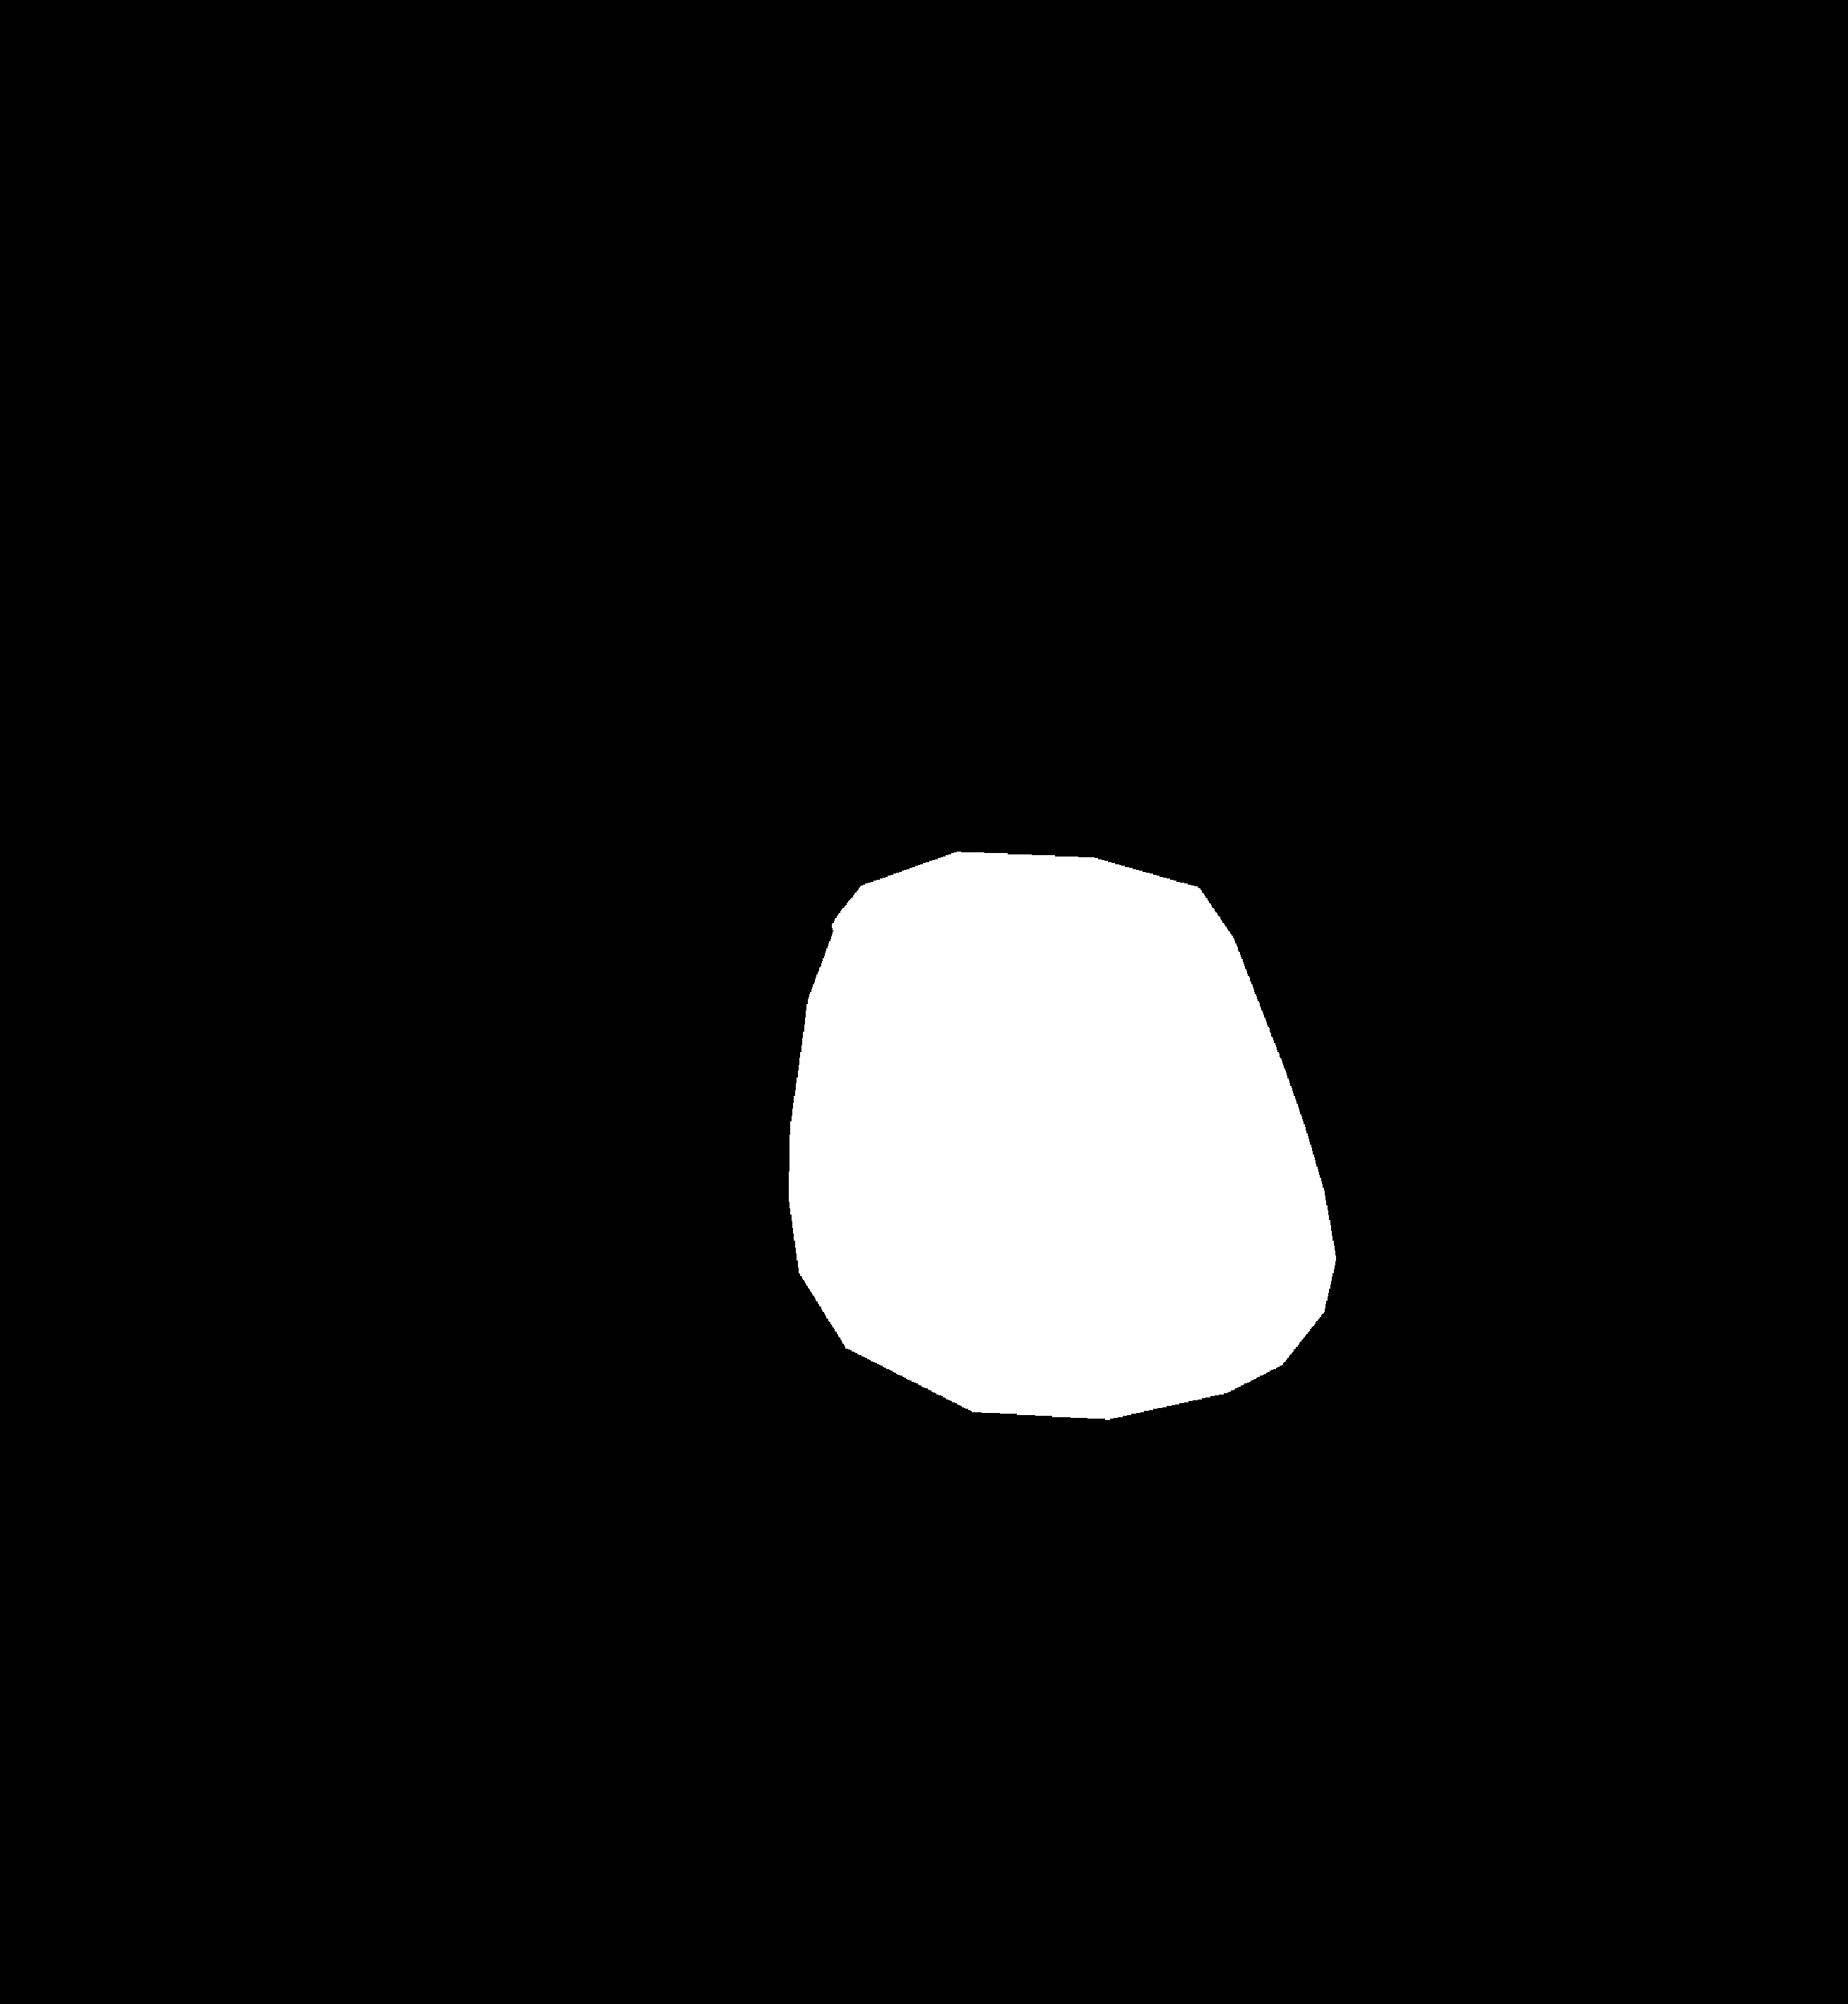heart: (777, 993, 1333, 1458)
left_lung: (339, 192, 904, 1458)
right_lung: (1037, 190, 1593, 1538)
